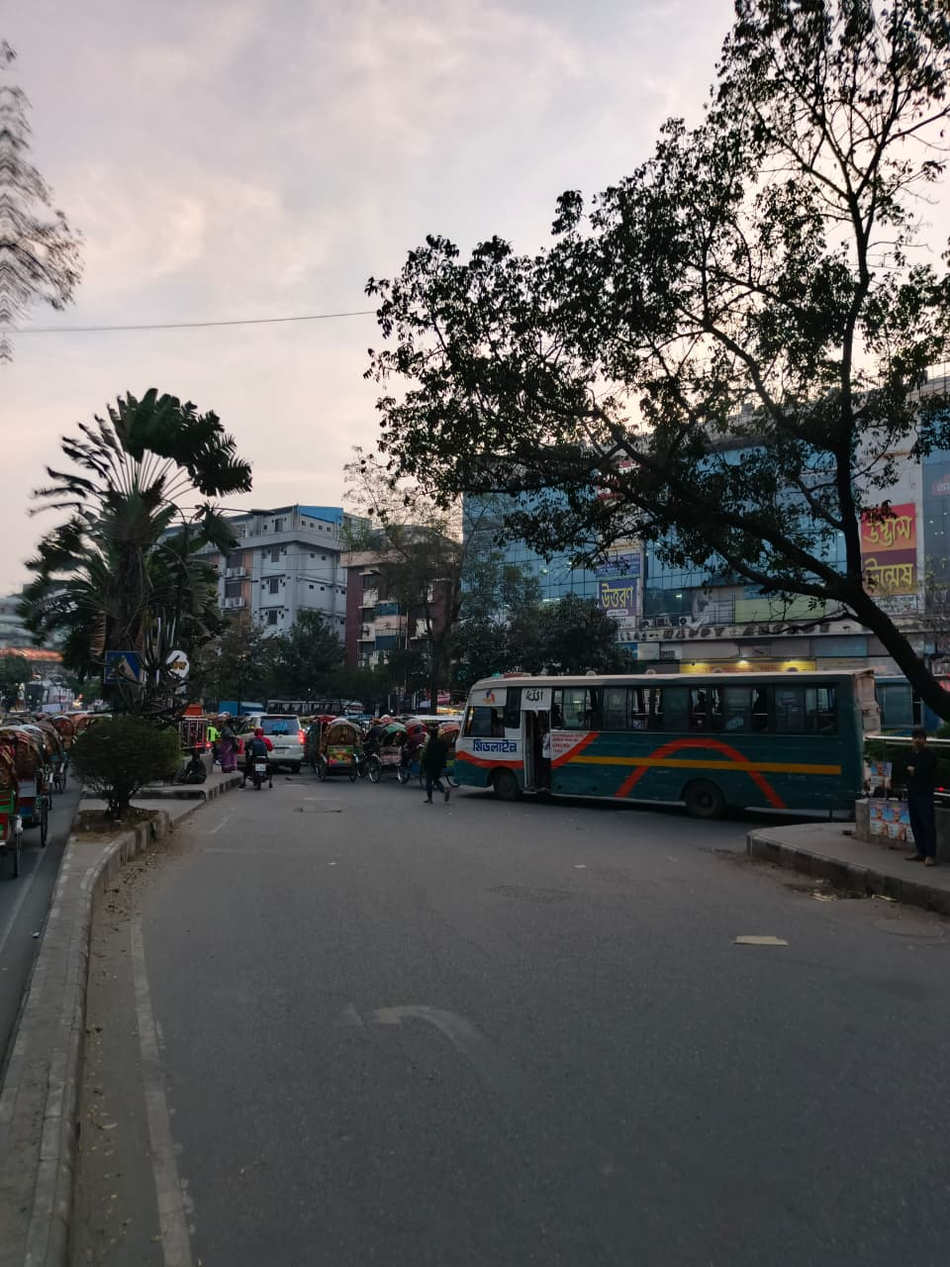Bikes: (225, 735, 295, 785)
Bus: (438, 664, 901, 844)
auto-ricksaw: (307, 708, 439, 809), (3, 710, 82, 865)
private car: (245, 718, 323, 773)
